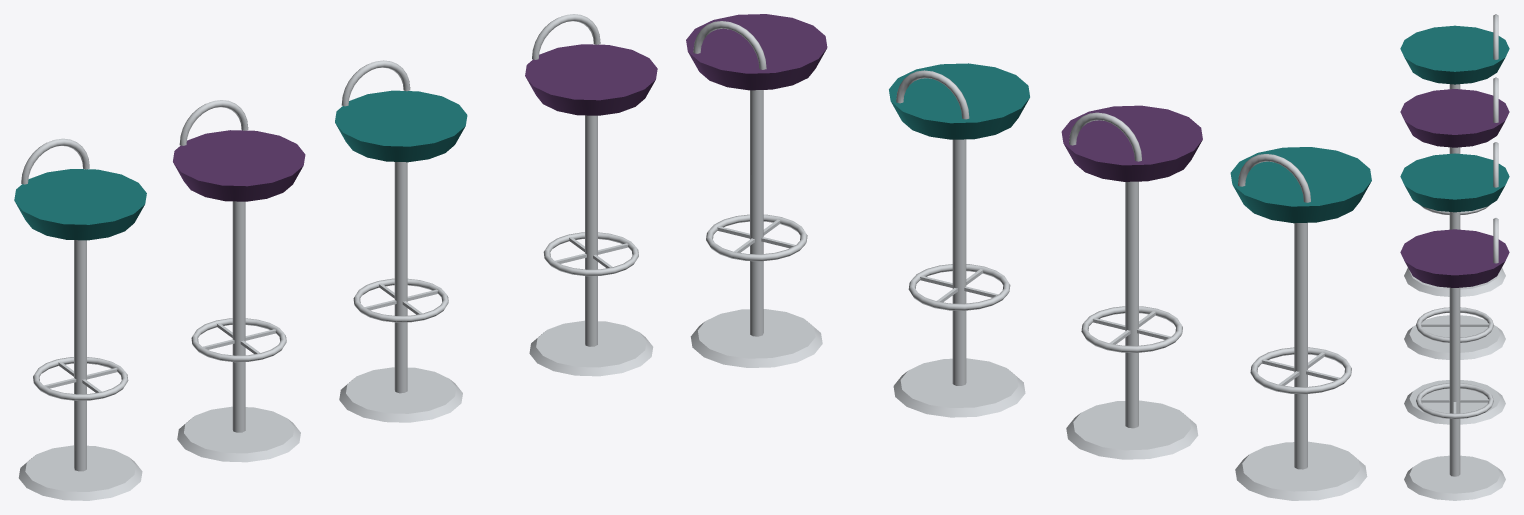
Rendered from stools.glb.
3 renders of one model, left to right at view 1: azimuth 30°, elevation 25°; view 2: azimuth 150°, elevation 25°; view 3: azimuth 270°, elevation 25°, orthographic. The views are drawn at different scales.
Visible parts, largest first — view 1: stools; view 2: stools; view 3: stools.
Part boxes in pixels (x1,y1,x2,y2): stools: (14, 14, 657, 500); stools: (686, 14, 1371, 500); stools: (1400, 14, 1509, 500).
Size of the model in its own units: 6.49 by 3.13 by 1.2.
